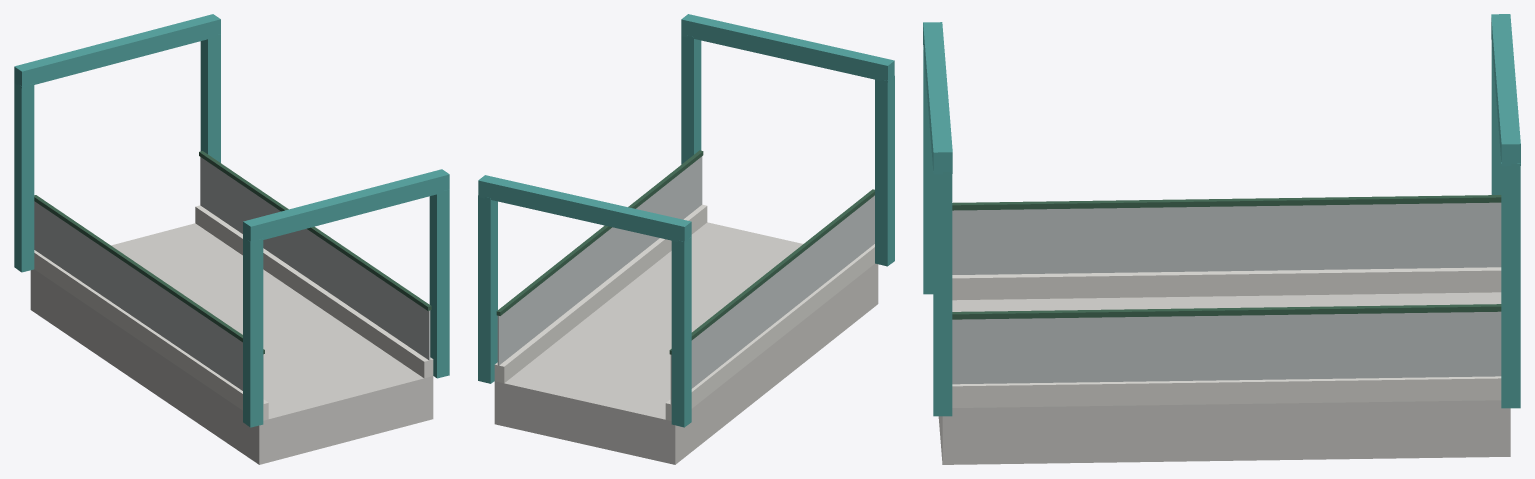
The picture shows the model from 3 angles, left to right: view 1: azimuth 30°, elevation 25°; view 2: azimuth 150°, elevation 25°; view 3: azimuth 270°, elevation 25°; orthographic projection. The views are drawn at different scales.
Parts seen in each view (by area): view 1: bridgeSZ2__deck, bridgeSZ2__frame, bridgeSZ2__glass, bridgeSZ2__parapet, bridgeSZ2__rail; view 2: bridgeSZ2__deck, bridgeSZ2__frame, bridgeSZ2__glass, bridgeSZ2__parapet, bridgeSZ2__rail; view 3: bridgeSZ2__glass, bridgeSZ2__deck, bridgeSZ2__parapet, bridgeSZ2__frame, bridgeSZ2__rail.
Boxes of the visible parts, box(x1,y1,x2,y2) form: bridgeSZ2__deck: box(30, 223, 433, 464); bridgeSZ2__frame: box(14, 14, 449, 427); bridgeSZ2__glass: box(34, 157, 430, 403); bridgeSZ2__parapet: box(34, 205, 433, 420); bridgeSZ2__rail: box(34, 151, 431, 354); bridgeSZ2__deck: box(494, 222, 878, 464); bridgeSZ2__frame: box(478, 14, 894, 427); bridgeSZ2__glass: box(497, 156, 874, 404); bridgeSZ2__parapet: box(494, 204, 874, 420); bridgeSZ2__rail: box(496, 150, 874, 354); bridgeSZ2__glass: box(952, 202, 1501, 384); bridgeSZ2__deck: box(938, 292, 1510, 464); bridgeSZ2__parapet: box(952, 267, 1501, 407); bridgeSZ2__frame: box(923, 14, 1520, 416); bridgeSZ2__rail: box(952, 195, 1501, 319).
Bounding box in the file's own units: 3.4 × 3.67 × 6.21.
